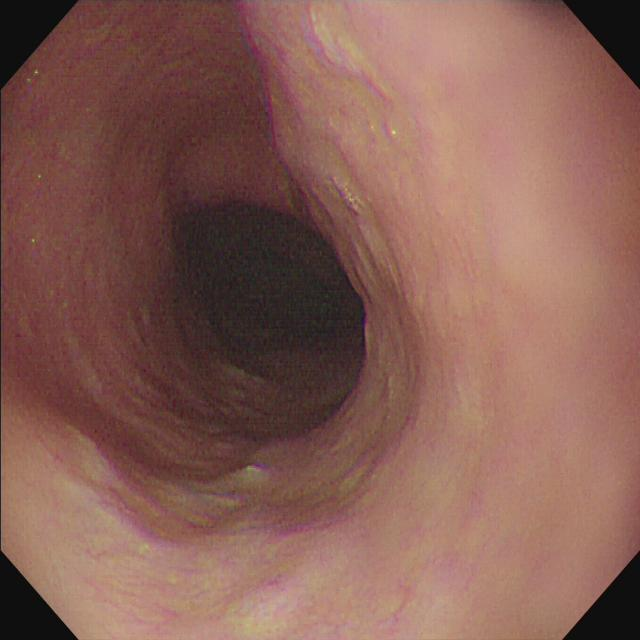E: (194, 209, 368, 351)
